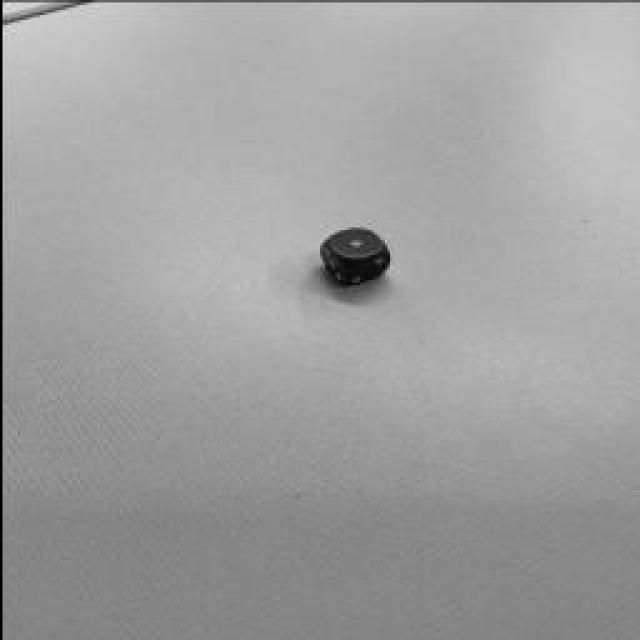dice_1: (326, 228, 382, 258)
